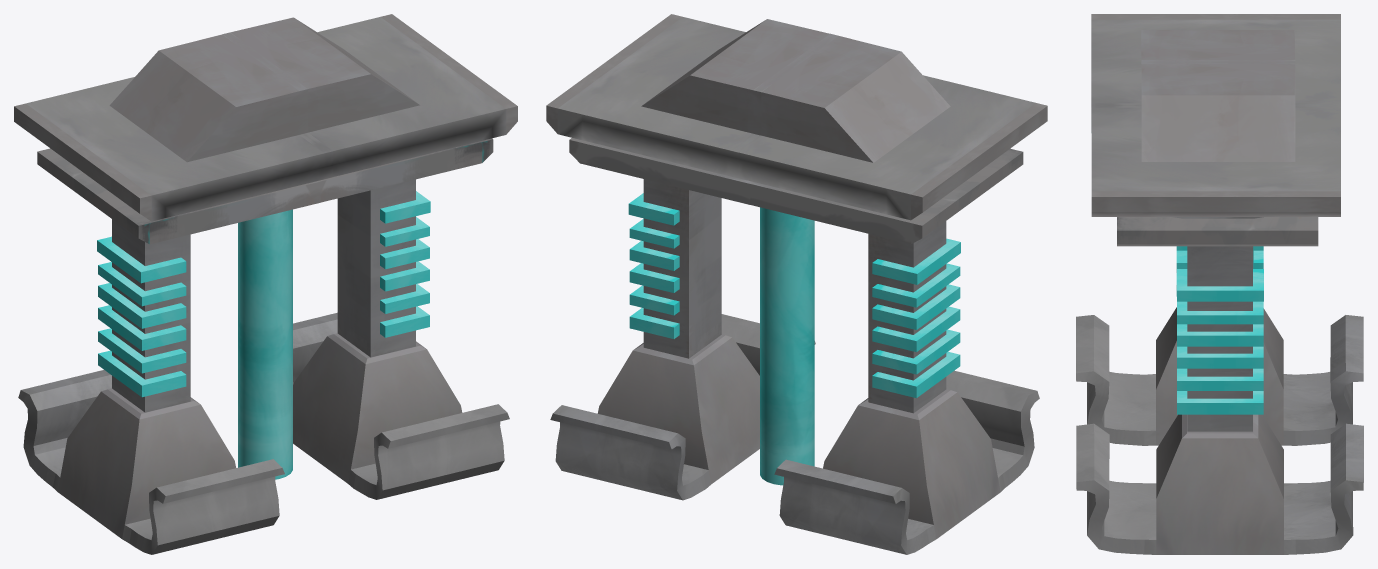
Rendered from portalframetwo.fbx.
3 views of the same model, side by side, from view 1: azimuth 30°, elevation 25°; view 2: azimuth 150°, elevation 25°; view 3: azimuth 270°, elevation 25° (orthographic).
Parts seen in each view (by area): view 1: polySurface58, polySurface21, polySurface23, polySurface18, polySurface4, polySurface20, polySurface19, polySurface51, polySurface24, polySurface48, polySurface46, polySurface50 (+8 smaller); view 2: polySurface58, polySurface21, polySurface23, polySurface18, polySurface4, polySurface19, polySurface51, polySurface20, polySurface24, polySurface48, polySurface50, polySurface46 (+8 smaller); view 3: polySurface58, polySurface23, polySurface21, polySurface20, polySurface18, polySurface52, polySurface57, polySurface54, polySurface55, polySurface56, polySurface53, polySurface32.
Boxes of the visible parts, x1,y1,x2,y2 form: polySurface58: (222,14,517,499); polySurface21: (18,370,235,538); polySurface23: (14,77,333,221); polySurface18: (109,32,307,162); polySurface4: (238,209,292,479); polySurface20: (122,459,284,554); polySurface19: (37,148,320,244); polySurface51: (112,219,190,412); polySurface24: (98,350,186,397); polySurface48: (97,236,186,283); polySurface46: (98,305,186,350); polySurface50: (98,283,186,328); polySurface58: (546,14,838,500); polySurface21: (774,389,1000,554); polySurface23: (730,75,1047,220); polySurface18: (753,33,950,162); polySurface4: (760,207,814,485); polySurface19: (746,148,1023,243); polySurface51: (868,221,946,413); polySurface20: (946,370,1039,491); polySurface24: (872,351,960,398); polySurface48: (872,238,960,284); polySurface50: (872,284,960,329); polySurface46: (872,306,960,351); polySurface58: (1076,60,1363,554); polySurface23: (1091,14,1340,132); polySurface21: (1156,307,1363,445); polySurface20: (1076,315,1155,445); polySurface18: (1141,30,1294,63); polySurface52: (1177,269,1263,301); polySurface57: (1177,391,1263,414); polySurface54: (1177,324,1263,346); polySurface55: (1177,346,1263,368); polySurface56: (1177,368,1263,390); polySurface53: (1177,301,1263,324); polySurface32: (1176,250,1263,272).
Bounding box in the file's own units: 26.56 × 27.67 × 17.65.
